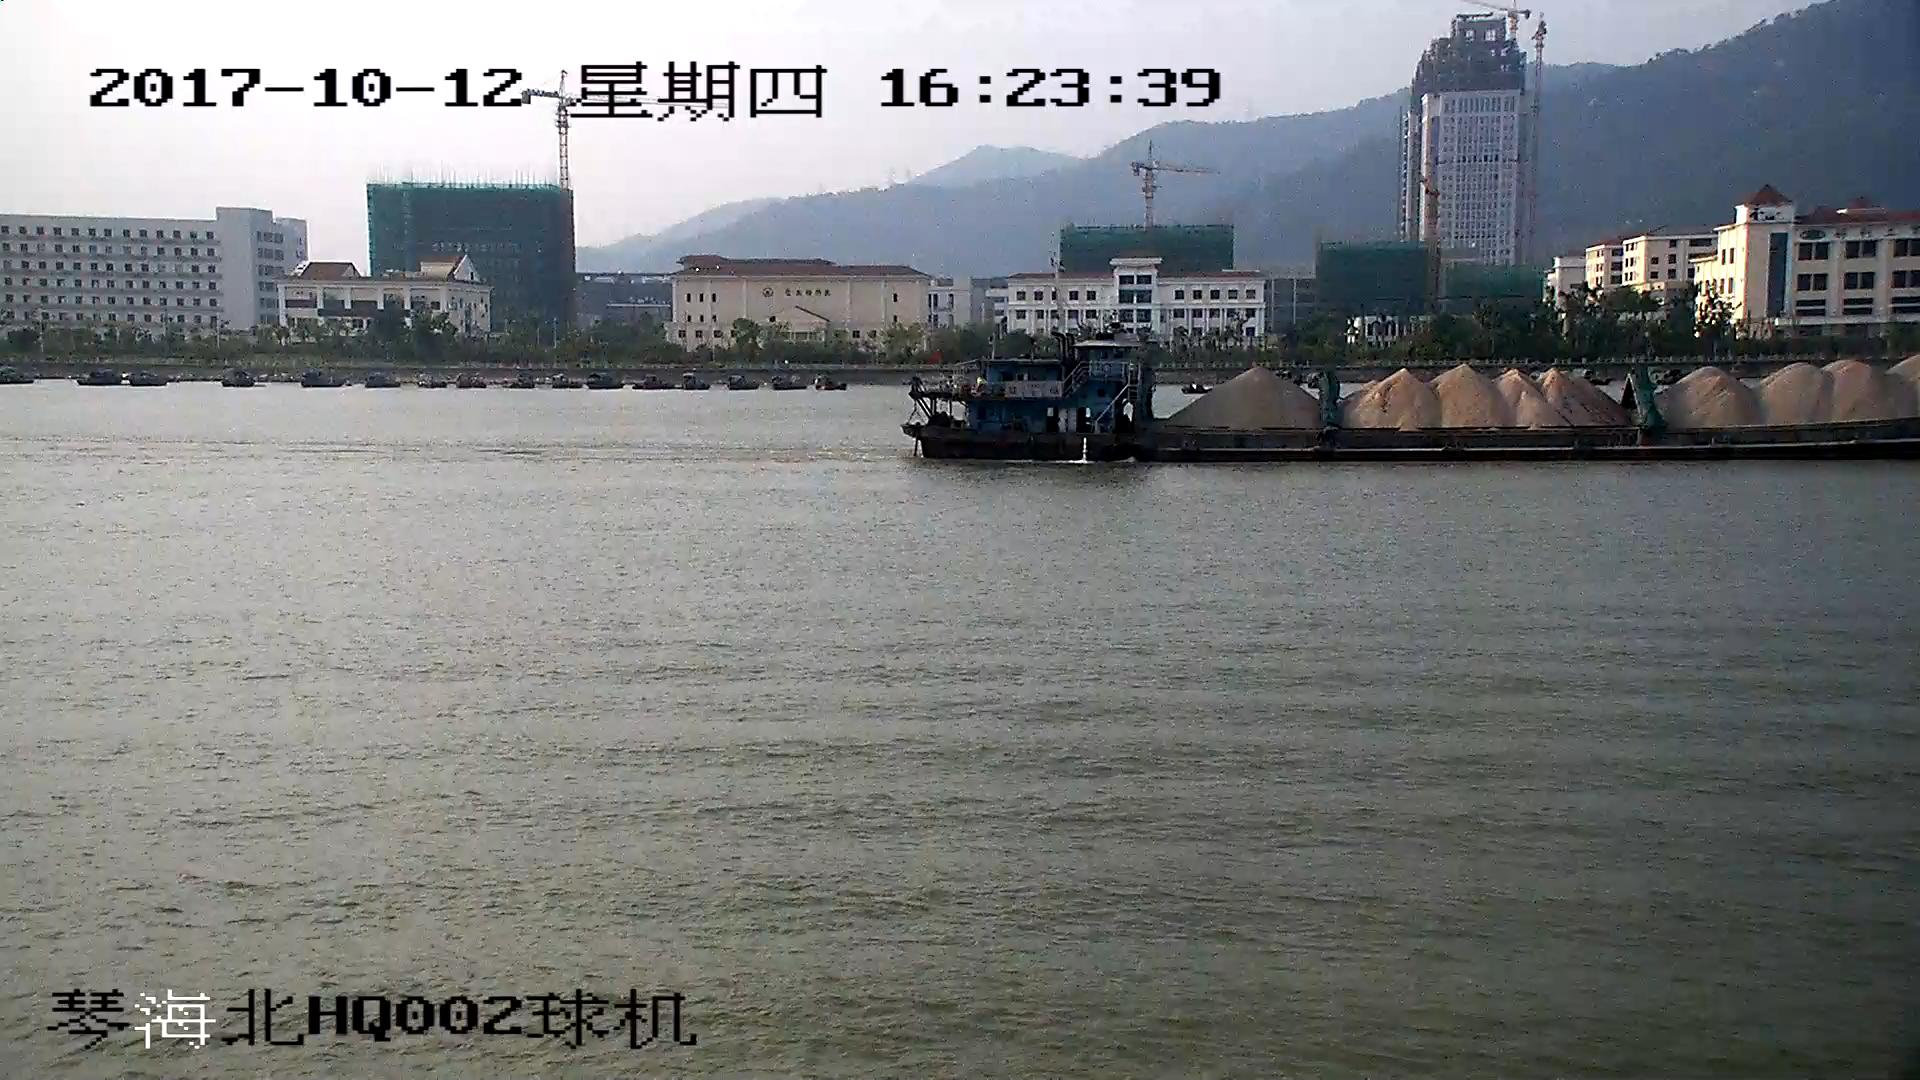ore carrier: (903, 334, 1920, 469)
